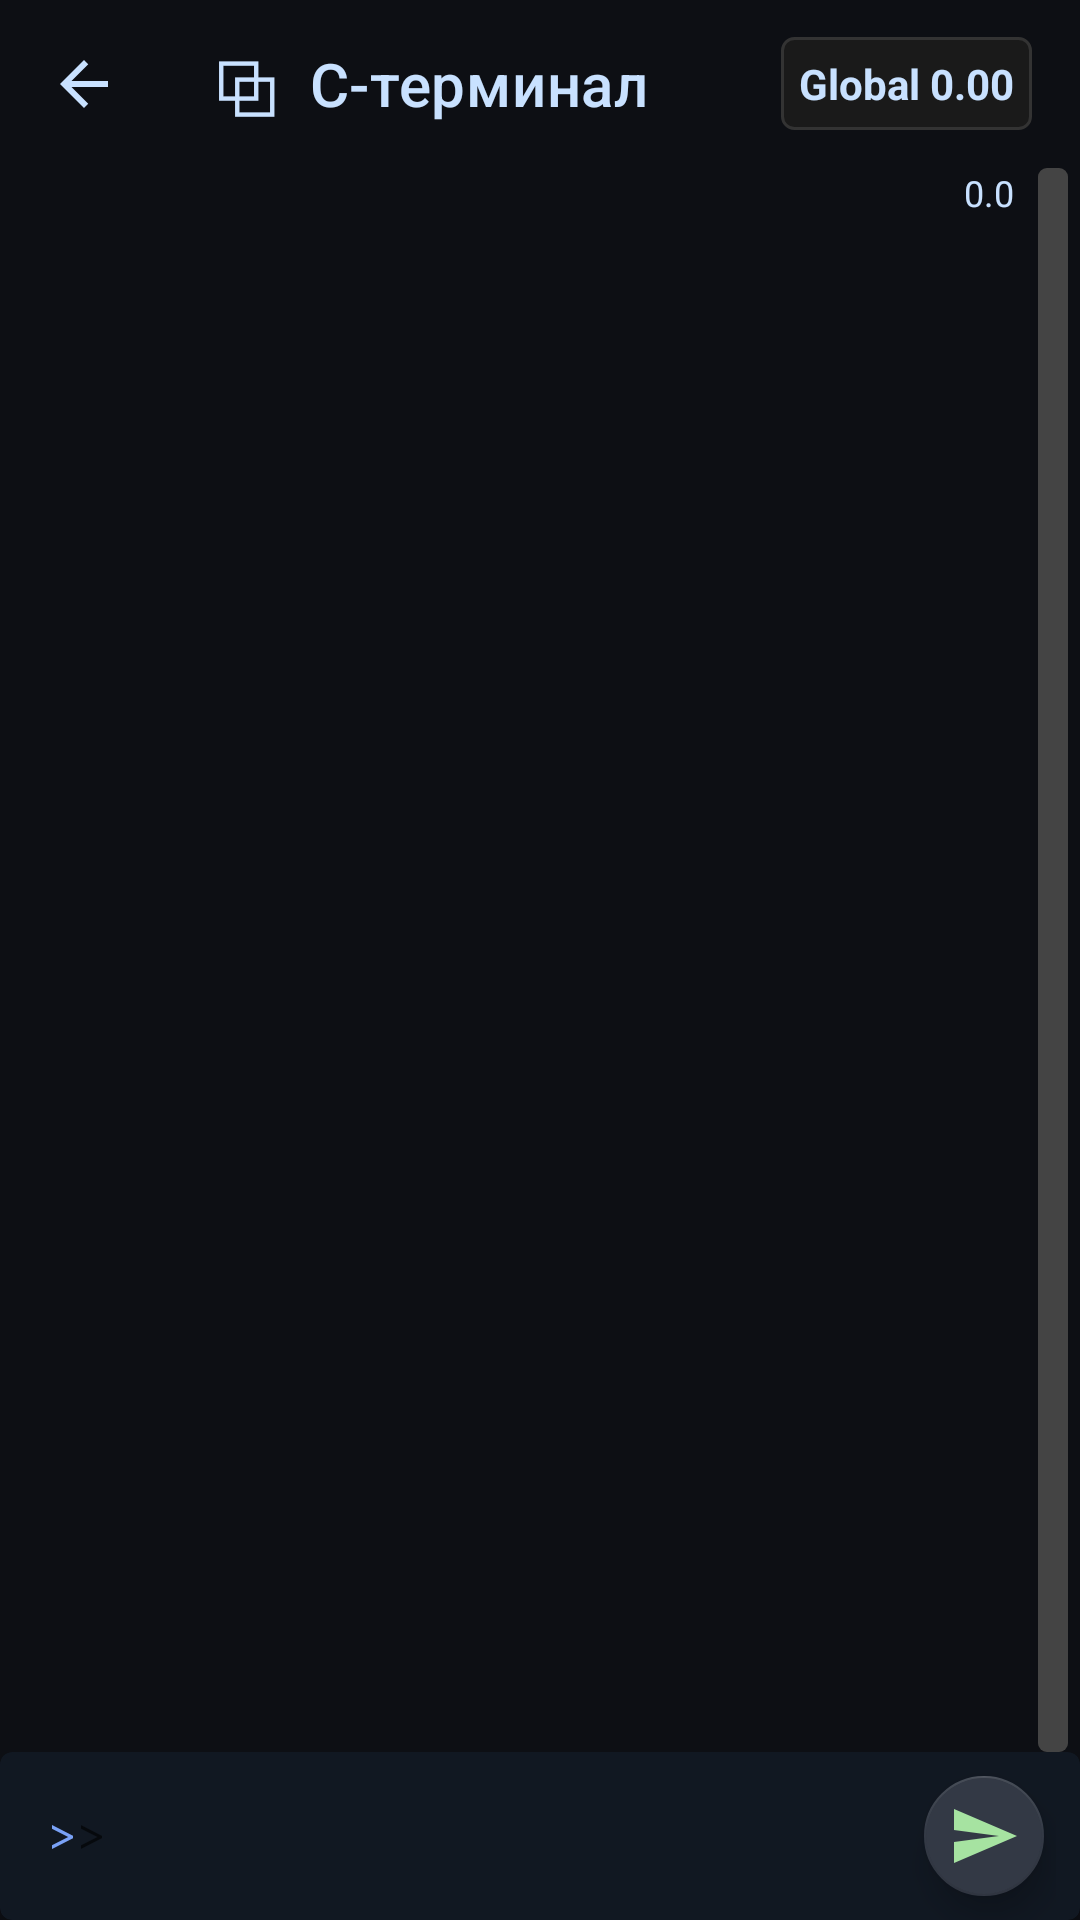

Icon click points for this 1080px×1920px phone screenshot, format (x,y):
send: (984,1836)
